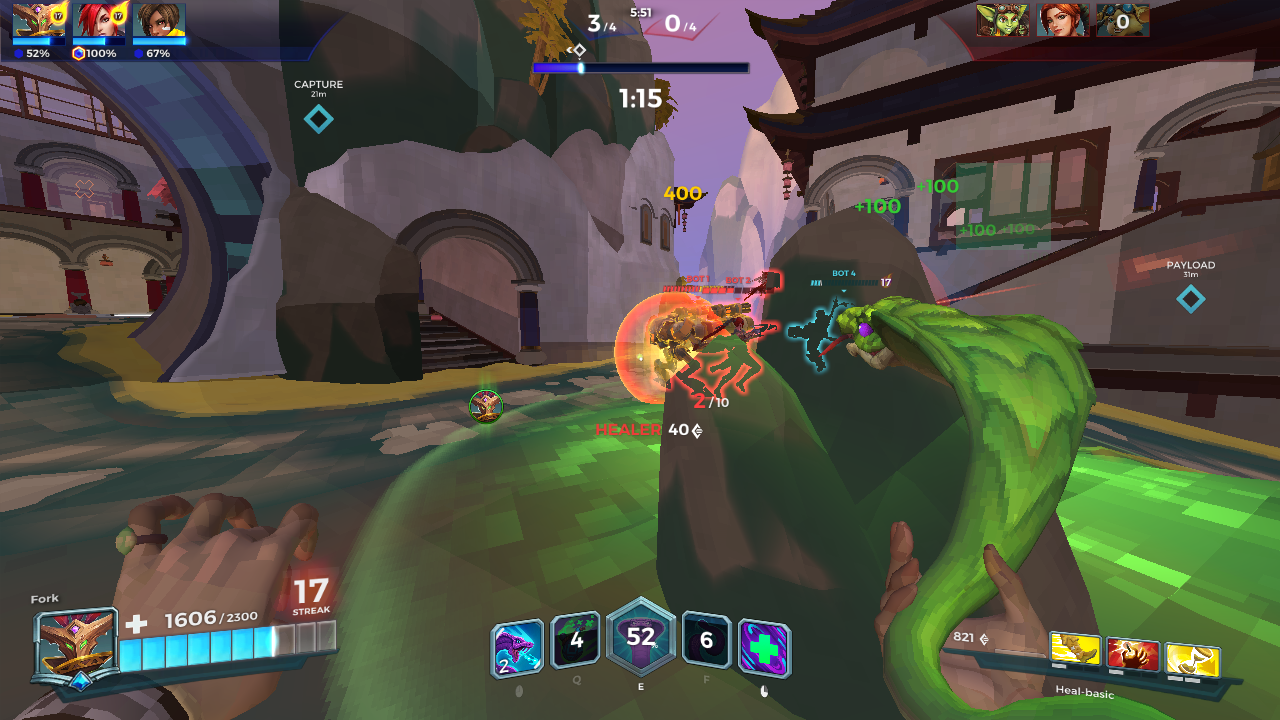model: (648, 298, 714, 402), (723, 308, 768, 401)
